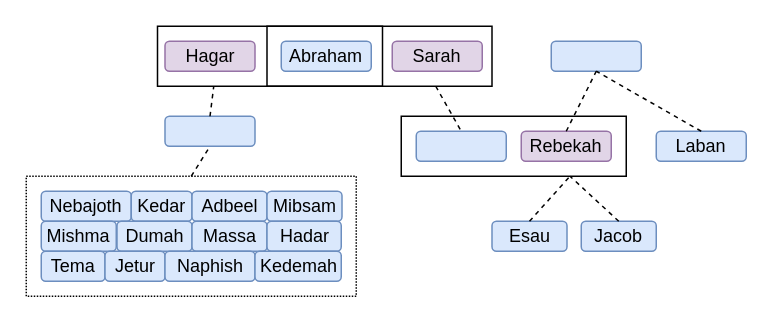
Some shapes in this 773 by 323 pixel diagram are drawn without their labels. The shapes that lost their labels are listed below. From the top down, each one's centre as x and y in pixels, then its label:
At [595,55]: "Bethuel".
At [209,130]: "Ishmael".
At [460,145]: "Isaac".
